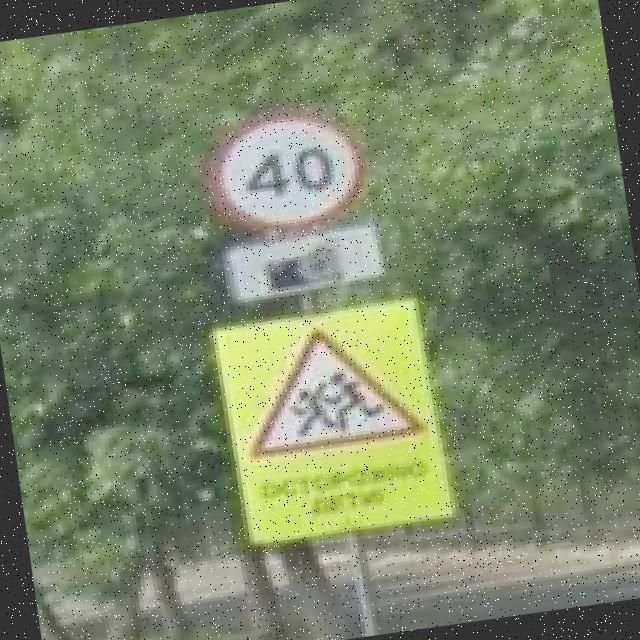Ograniczenie predkosci do 40: (200, 100, 370, 240)
